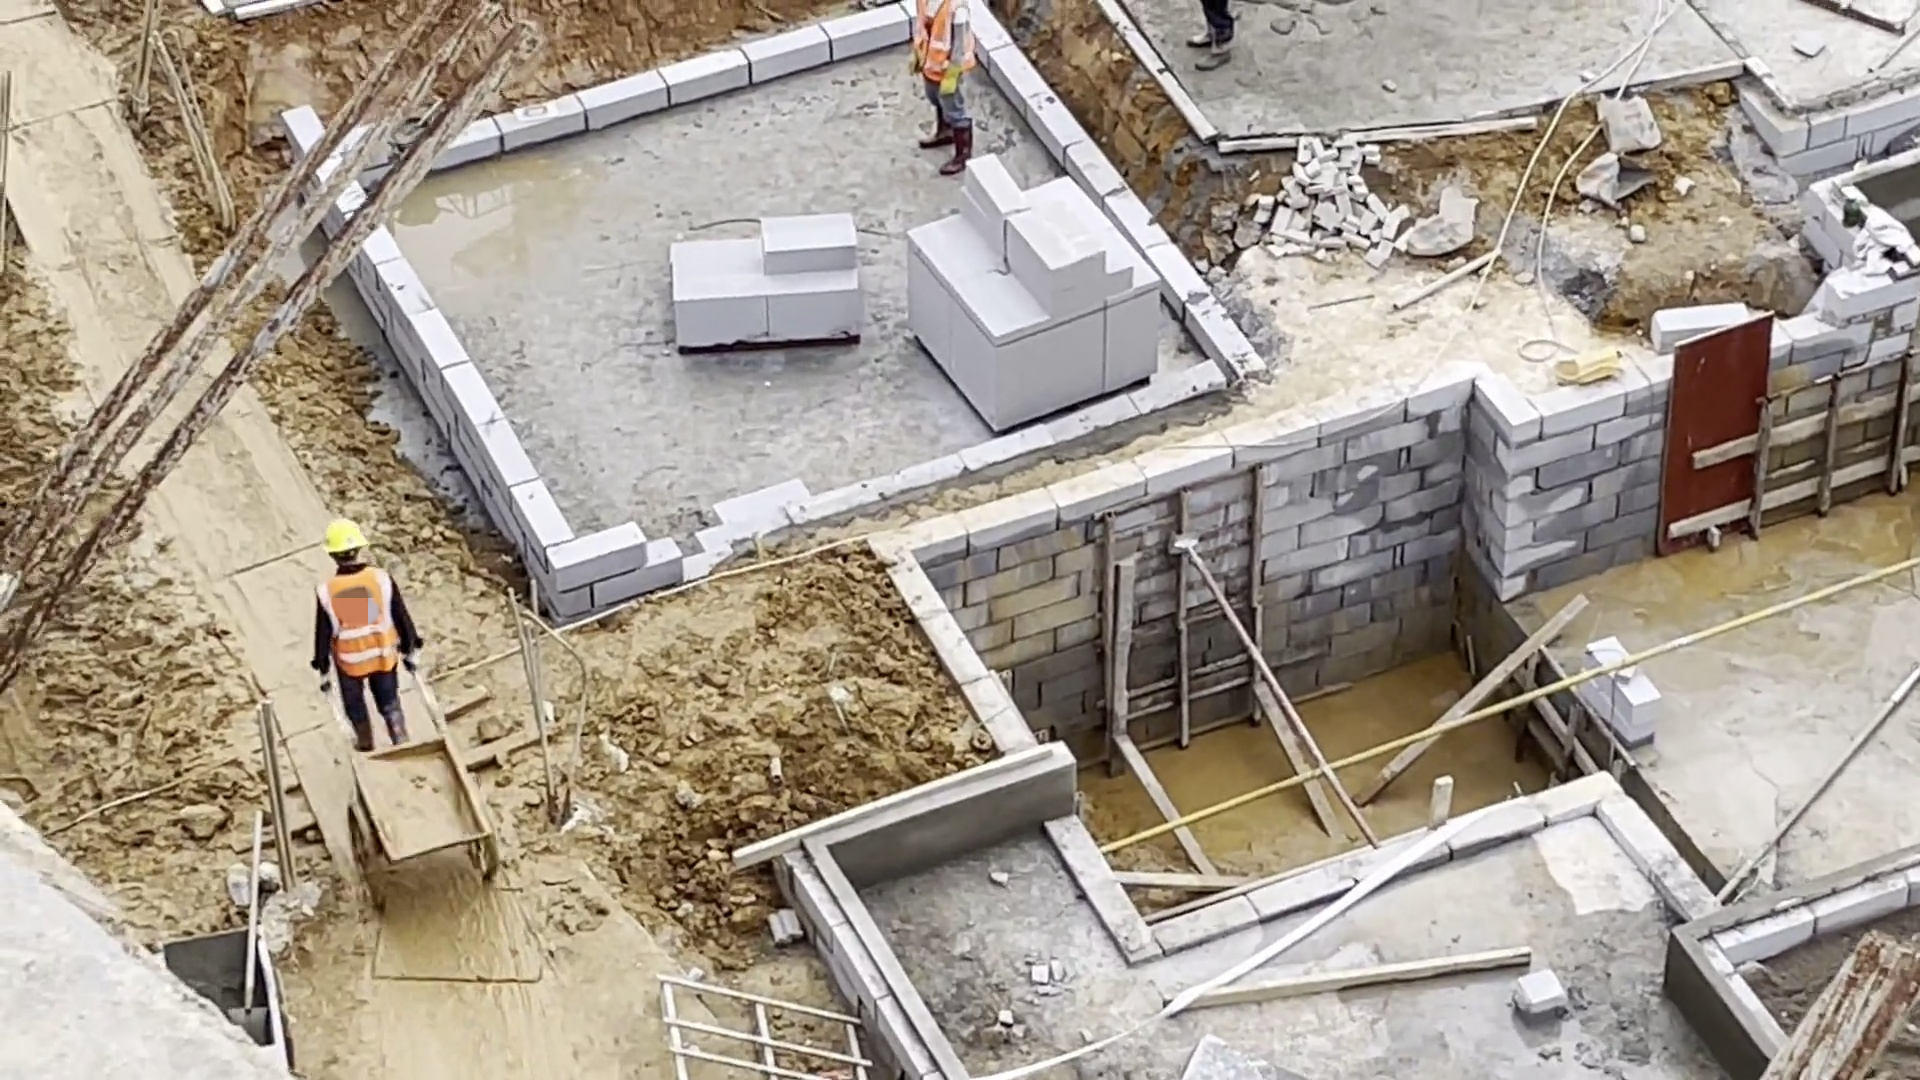brick: (899, 150, 1158, 438), (663, 206, 862, 365)
handcart: (319, 672, 496, 893)
helmet: (318, 516, 364, 557)
person: (307, 513, 425, 749), (896, 1, 992, 179)
vest: (311, 565, 399, 675), (912, 1, 978, 86)
